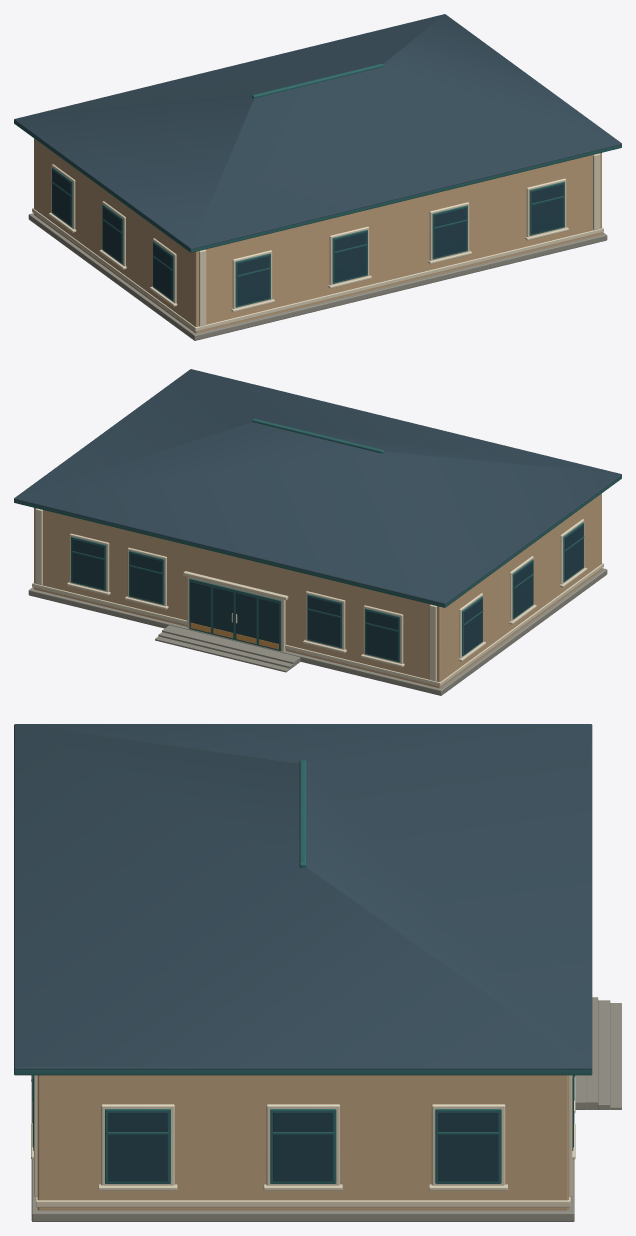
The model's file is d05_harbour_hall_01.glb.
3 views of the same model, one above another, from view 1: azimuth 30°, elevation 25°; view 2: azimuth 150°, elevation 25°; view 3: azimuth 270°, elevation 25° (orthographic). The views are drawn at different scales.
Visible parts, largest first — view 1: D05HarbourHall01_Mesh; view 2: D05HarbourHall01_Mesh; view 3: D05HarbourHall01_Mesh.
Boxes of the visible parts, x1=… form: D05HarbourHall01_Mesh: x1=14, y1=14, x2=621, y2=340; D05HarbourHall01_Mesh: x1=14, y1=369, x2=621, y2=695; D05HarbourHall01_Mesh: x1=14, y1=724, x2=621, y2=1221.
Bounding box in the file's own units: 27.6 × 9.2 × 20.6.
